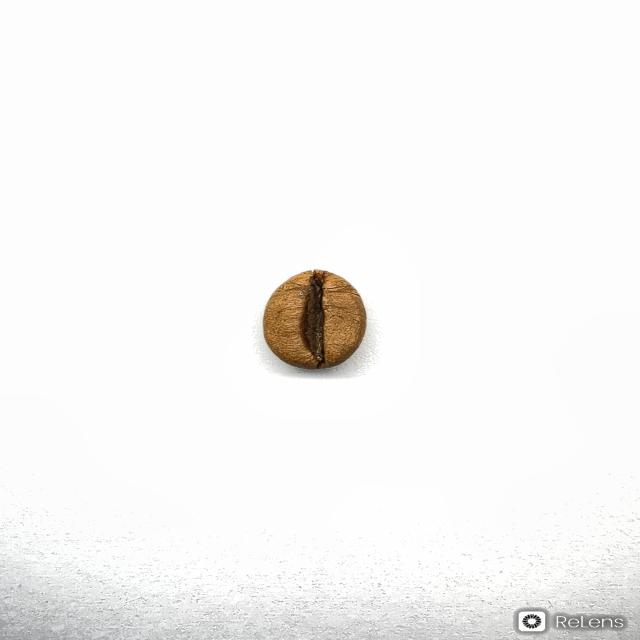Good bean: (262, 268, 367, 370)
